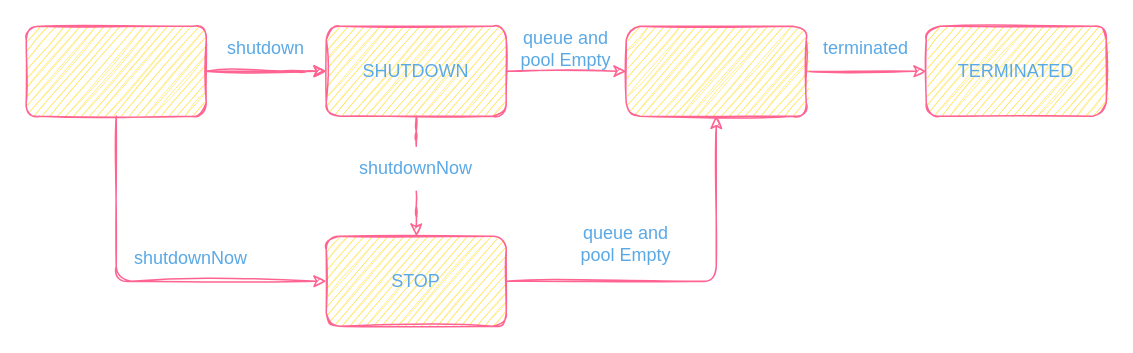
Some shapes in this 1133 by 353 pixel diagram are drawn without their labels. Each missing label, with the box of its shape:
RUNNING: (25, 25, 206, 116)
TIDYING: (625, 25, 806, 116)
